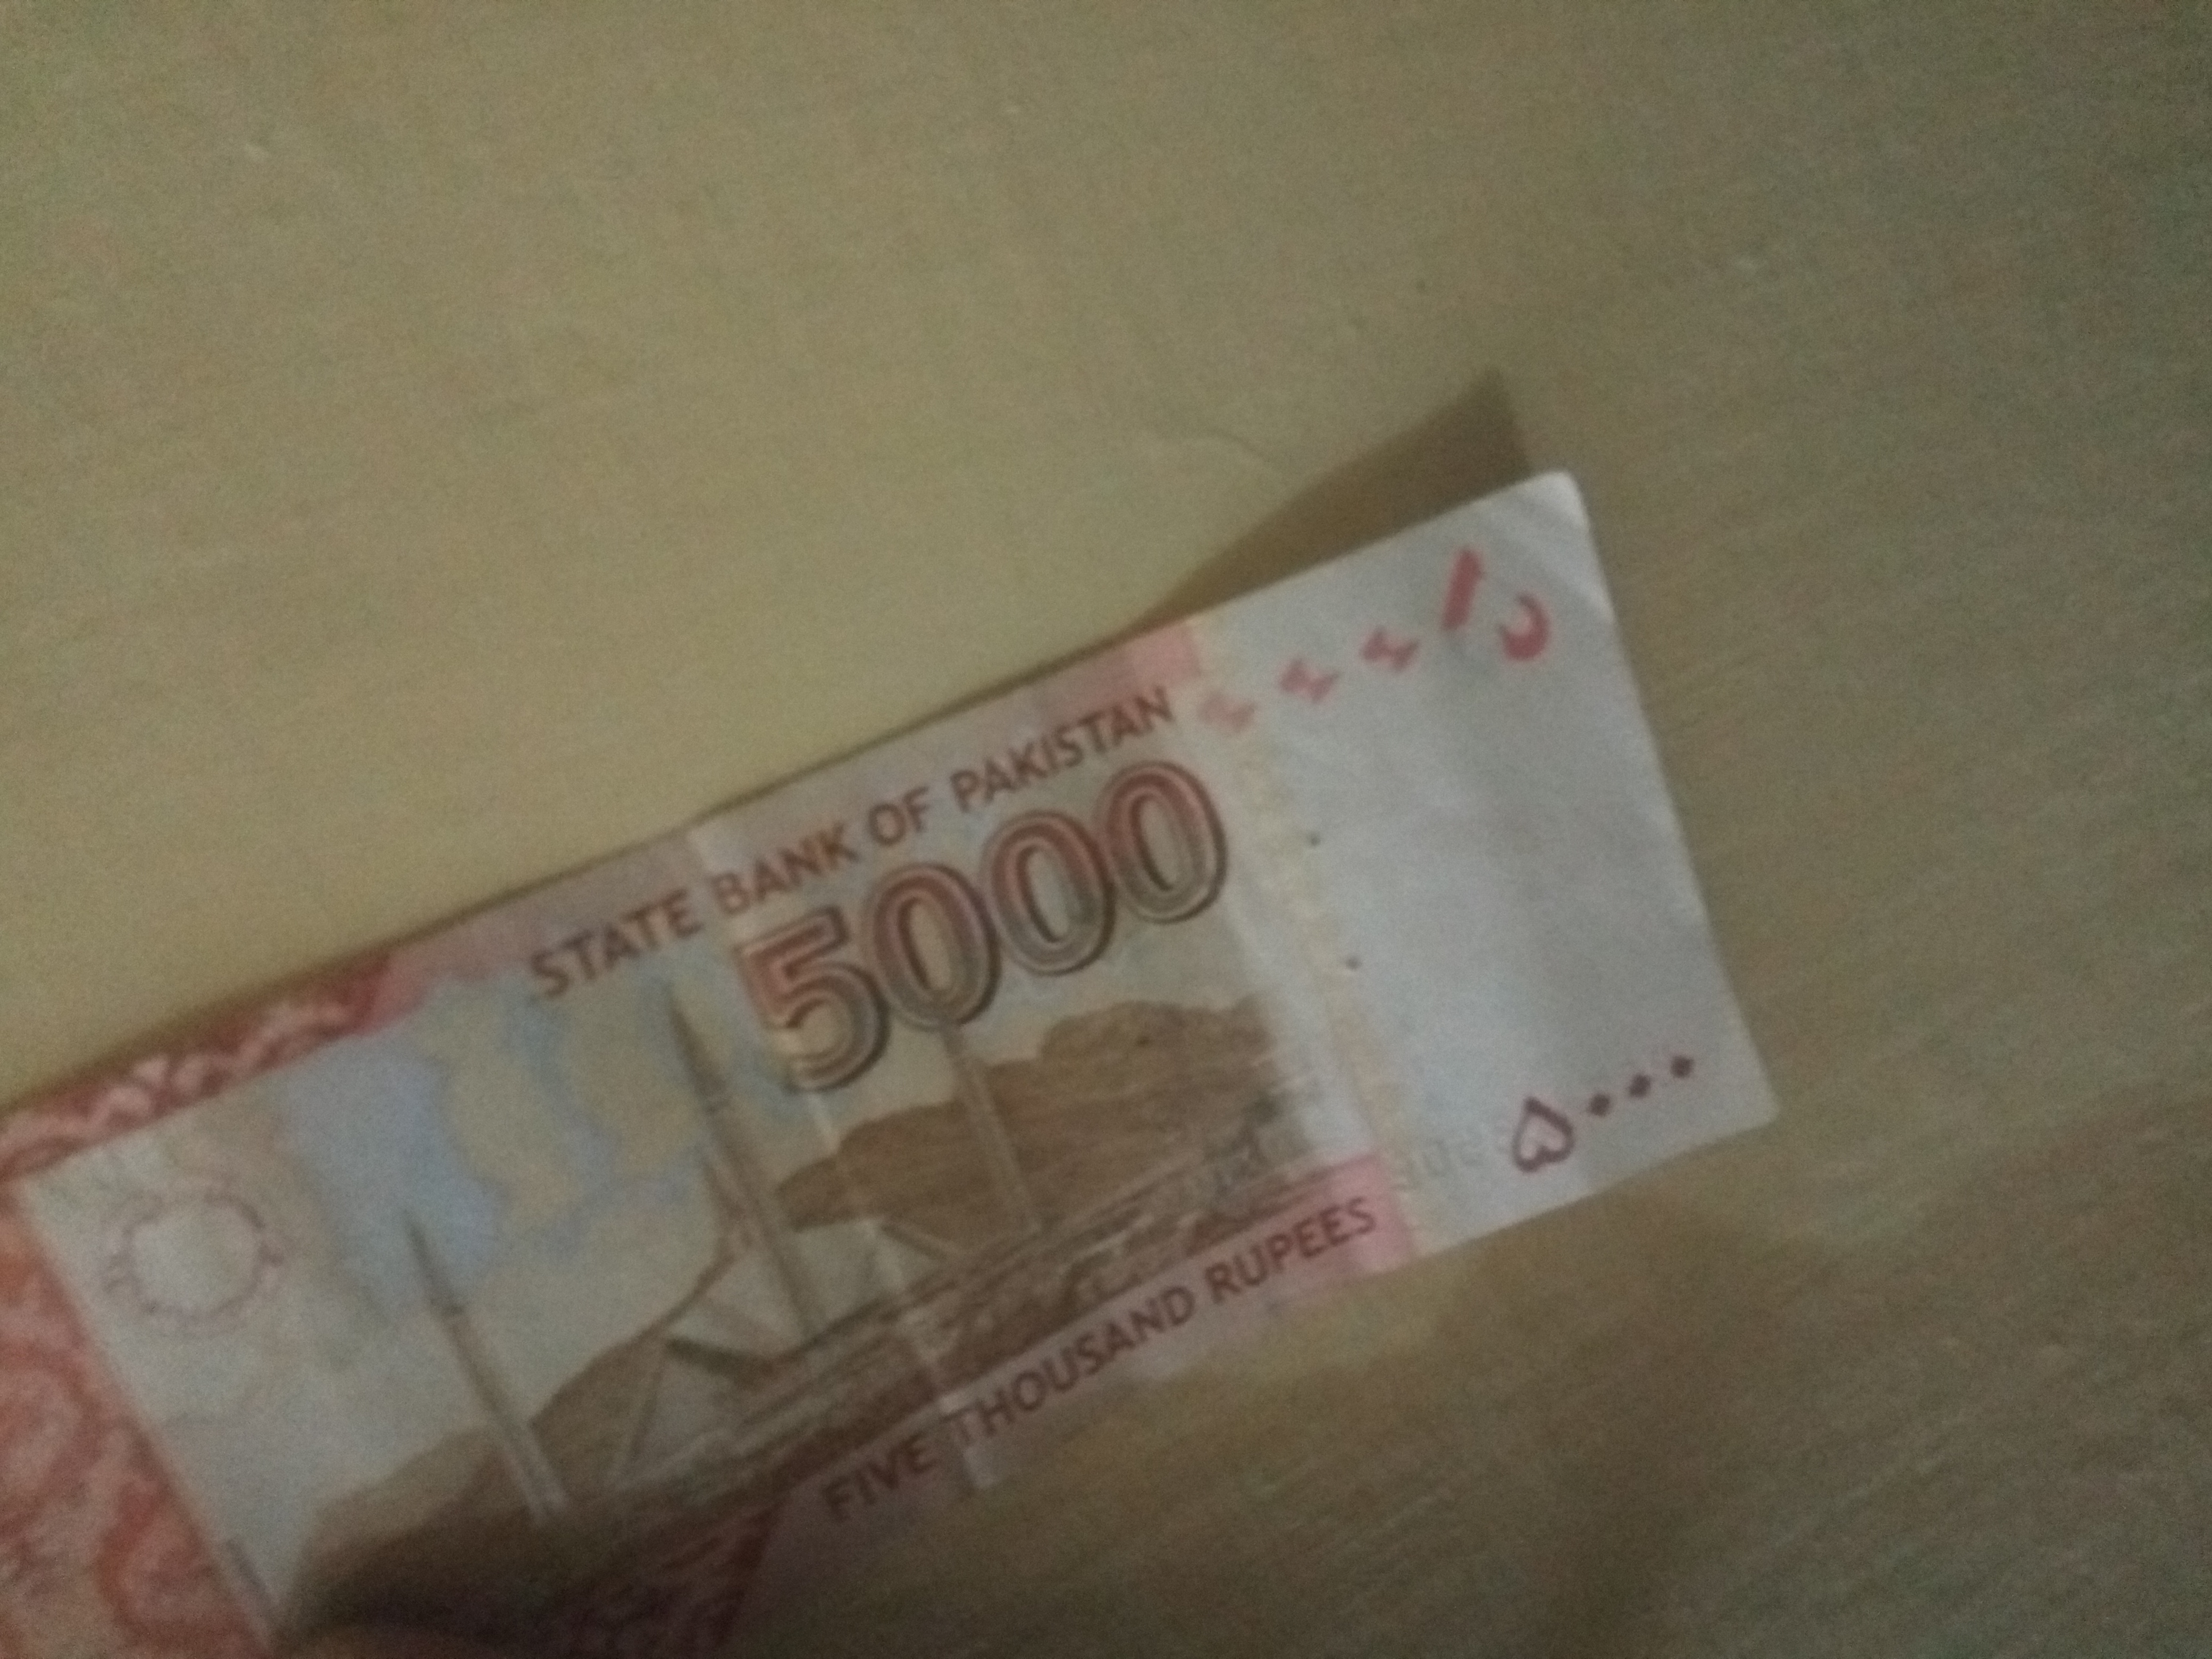5000 rupee: (0, 505, 1784, 1645)
